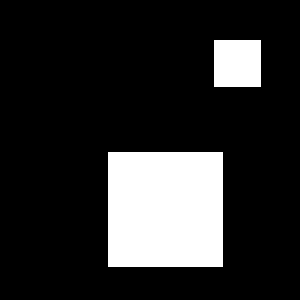circle: (108, 152, 223, 267), (214, 40, 261, 87)
triangle: (108, 198, 146, 236)
